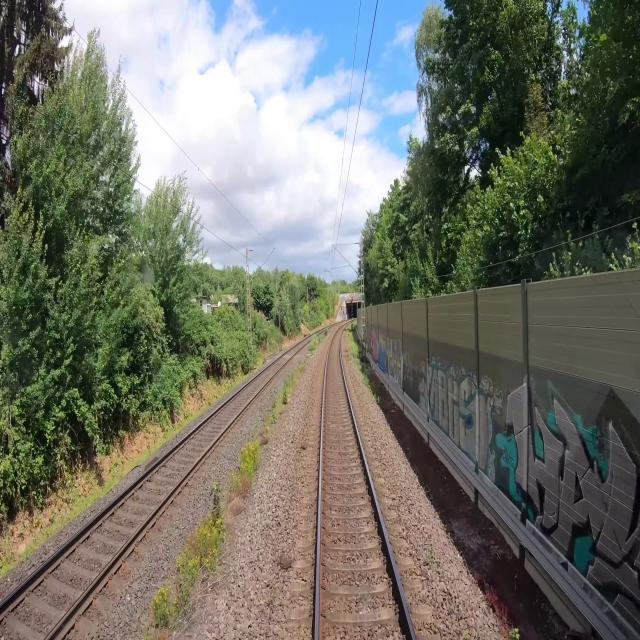Plant: (149, 326, 333, 639)
